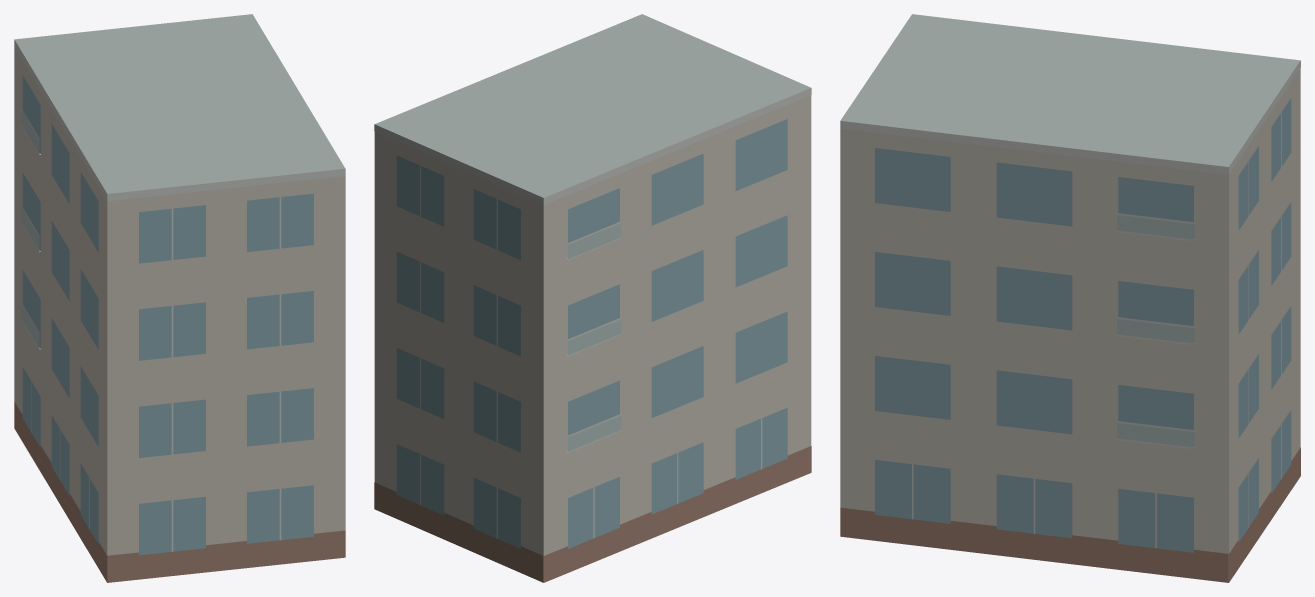
The model's file is survey-upis-32828118.glb.
3 renders of one model, left to right at view 1: azimuth 30°, elevation 25°; view 2: azimuth 150°, elevation 25°; view 3: azimuth 270°, elevation 25°, orthographic. The views are drawn at different scales.
Parts seen in each view (by area): view 1: survey-upis-32828118.tmp; view 2: survey-upis-32828118.tmp; view 3: survey-upis-32828118.tmp.
Part boxes in pixels (<box>): survey-upis-32828118.tmp: <box>14,14,345,582</box>; survey-upis-32828118.tmp: <box>374,14,811,582</box>; survey-upis-32828118.tmp: <box>840,14,1300,582</box>.
Size of the model in its own units: 10.35 by 13.1 by 13.16.
